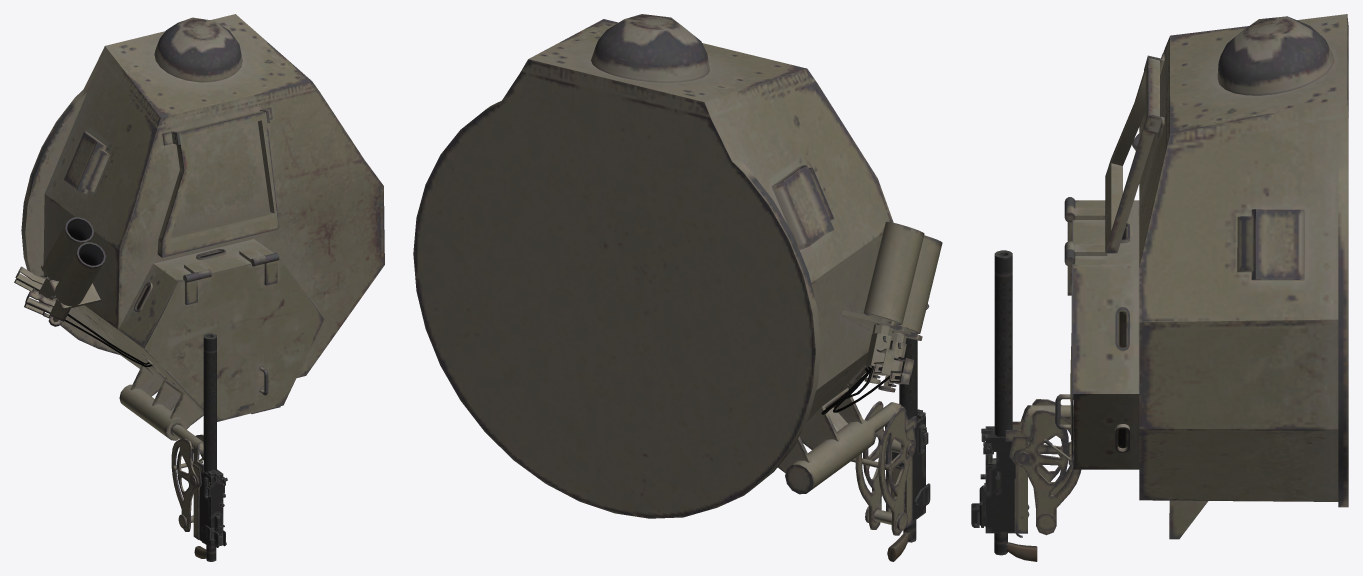
File: Turret_01.glb
3 renders of one model, left to right at view 1: azimuth 30°, elevation 25°; view 2: azimuth 150°, elevation 25°; view 3: azimuth 270°, elevation 25°, orthographic. The views are drawn at different scales.
Parts seen in each view (by area): view 1: set_0_group_0; view 2: set_0_group_0; view 3: set_0_group_0.
Part boxes in pixels (<box>): set_0_group_0: <box>14,14,384,561</box>; set_0_group_0: <box>413,14,942,561</box>; set_0_group_0: <box>971,14,1348,561</box>.
Size of the model in its own units: 1.58 by 2.02 by 1.16.
1 material, 1 textured.
